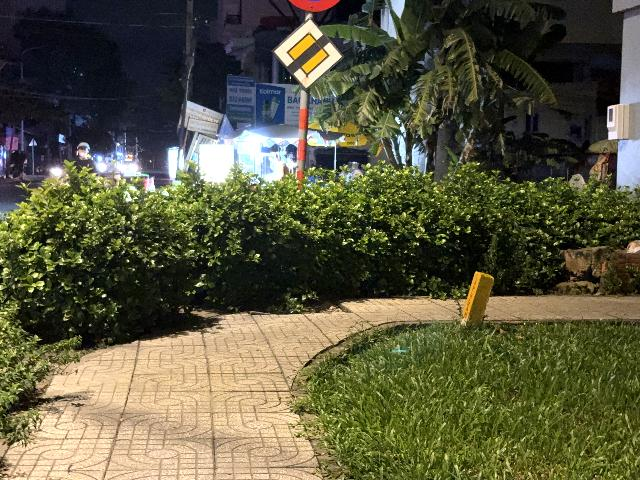het-duong-uu-tien: (270, 16, 346, 92)
